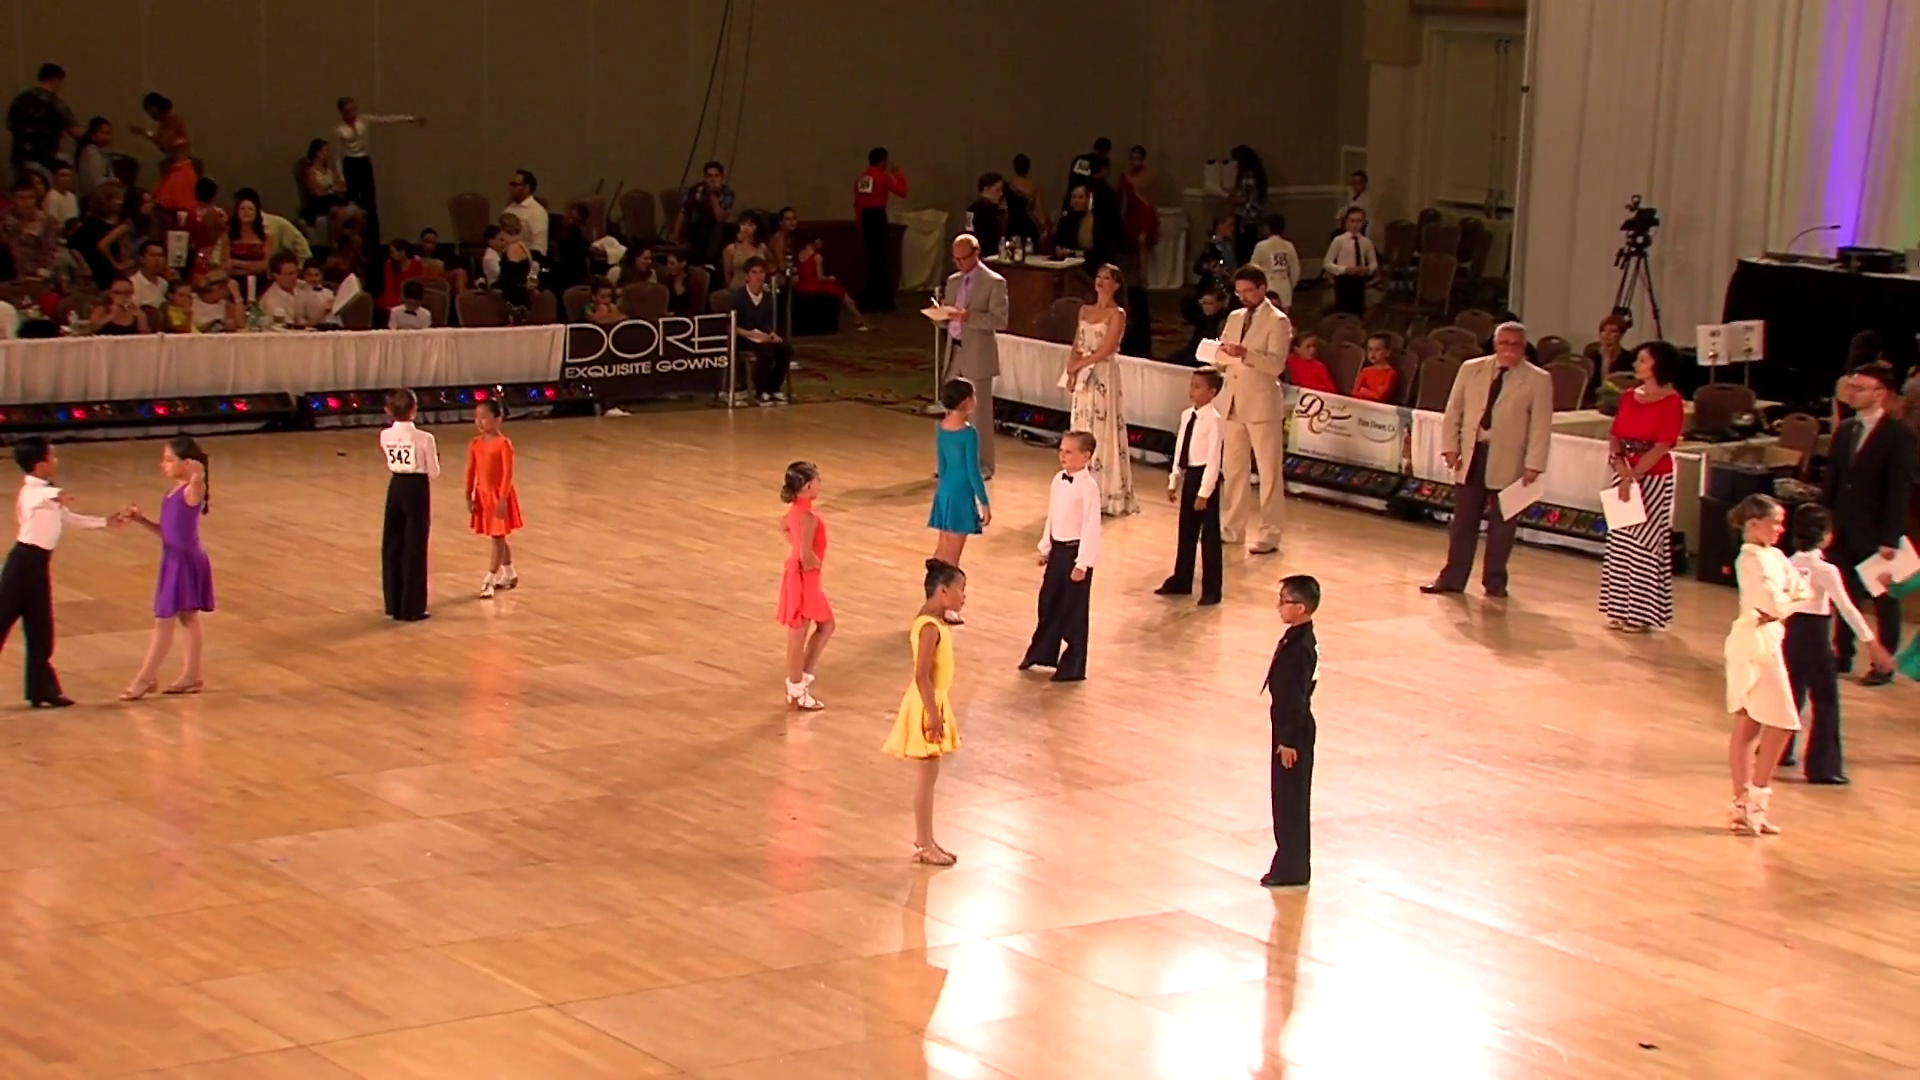person: (1419, 322, 1553, 596), (1, 435, 129, 707), (1726, 494, 1813, 837), (1196, 265, 1292, 555), (882, 560, 967, 866), (1599, 342, 1684, 635), (127, 434, 214, 702), (1058, 262, 1143, 520), (921, 235, 1009, 481), (1021, 432, 1101, 682), (1258, 576, 1316, 886), (1153, 366, 1226, 607), (926, 377, 993, 625), (774, 461, 836, 712), (377, 387, 442, 622), (466, 399, 521, 600)
